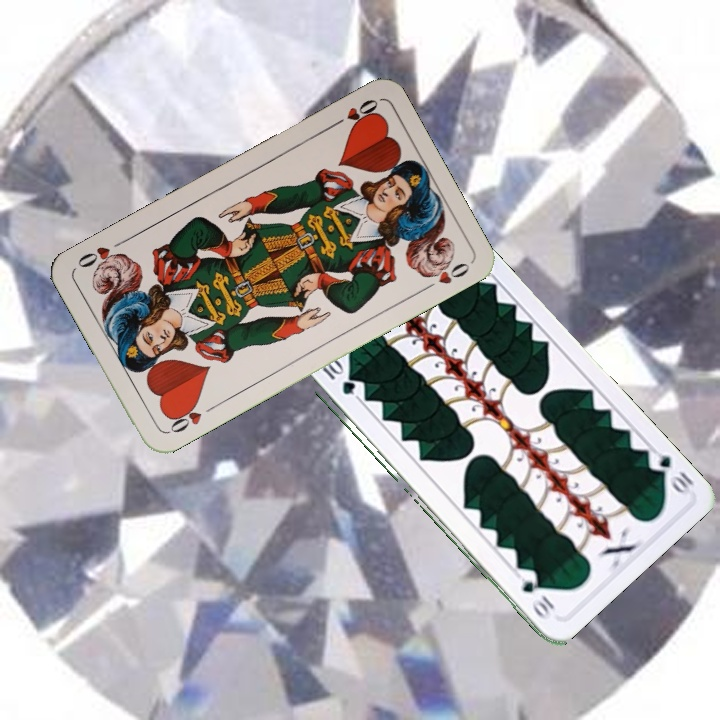G10: (643, 445, 697, 496), (318, 355, 357, 398)
HO: (165, 398, 218, 436), (326, 95, 381, 131)
